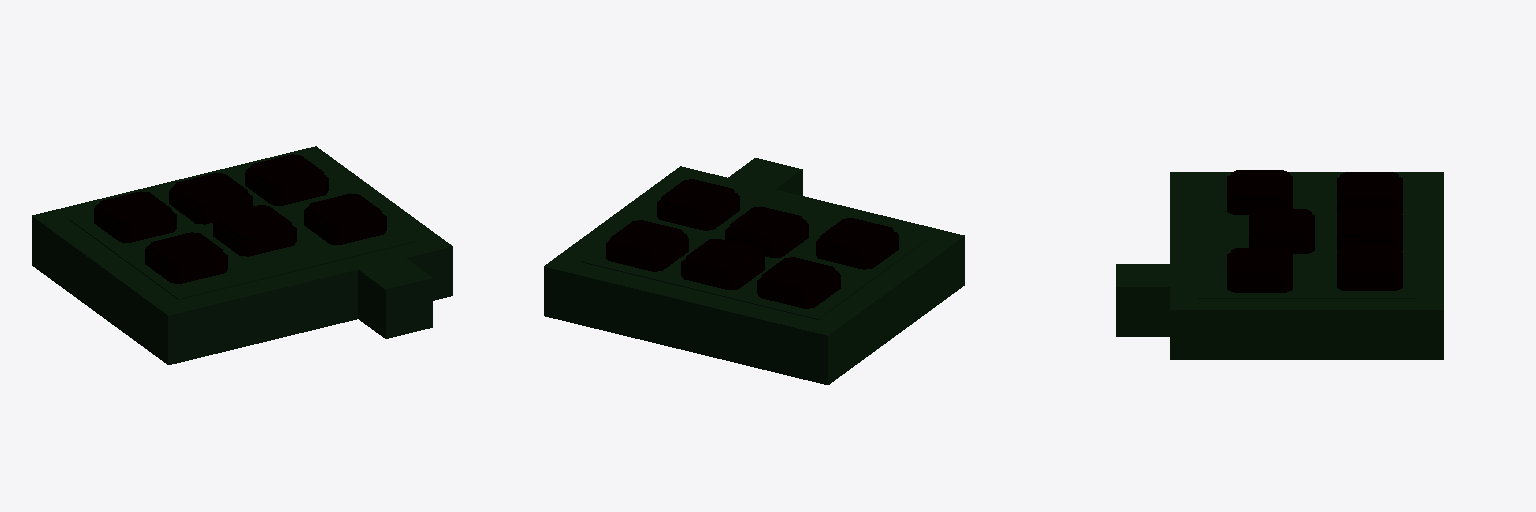
File: EntitySensor.obj
3 renders of one model, left to right at view 1: azimuth 30°, elevation 25°; view 2: azimuth 150°, elevation 25°; view 3: azimuth 270°, elevation 25°, orthographic.
Visible parts, largest first — view 1: Handle1, Front1, Left1, Down1, Right1, Up1, Back1; view 2: Handle1, Right1, Back1, Down1, Up1, Left1, Front1; view 3: Handle1, Left1, Up1, Down1, Front1, Right1, Back1.
Part boxes in pixels (bbox=[...]): Handle1: bbox=[32, 146, 452, 364]; Front1: bbox=[213, 205, 296, 256]; Left1: bbox=[245, 154, 328, 205]; Down1: bbox=[145, 232, 227, 283]; Right1: bbox=[94, 191, 176, 242]; Up1: bbox=[304, 193, 386, 244]; Back1: bbox=[169, 173, 252, 224]; Handle1: bbox=[544, 158, 964, 384]; Right1: bbox=[757, 257, 840, 308]; Back1: bbox=[681, 239, 764, 289]; Down1: bbox=[816, 218, 898, 269]; Up1: bbox=[657, 179, 739, 230]; Left1: bbox=[606, 220, 688, 271]; Front1: bbox=[725, 206, 808, 257]; Handle1: bbox=[1116, 172, 1443, 359]; Left1: bbox=[1337, 246, 1402, 290]; Up1: bbox=[1227, 248, 1292, 292]; Down1: bbox=[1227, 170, 1292, 214]; Front1: bbox=[1249, 209, 1314, 253]; Right1: bbox=[1337, 172, 1402, 214]; Back1: bbox=[1337, 209, 1402, 251].
Size of the model in its own units: 3 by 0.698 by 3.